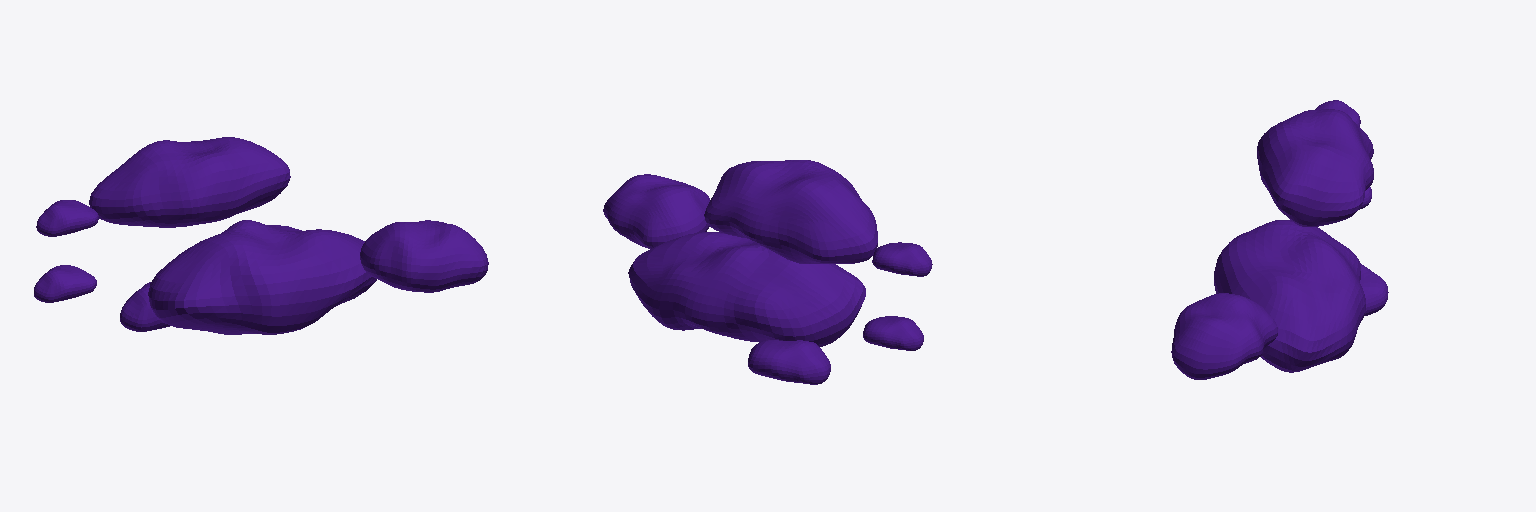
File: nerds.obj
3 renders of one model, left to right at view 1: azimuth 30°, elevation 25°; view 2: azimuth 150°, elevation 25°; view 3: azimuth 270°, elevation 25°, orthographic.
Parts seen in each view (by area): view 1: cloud; view 2: cloud; view 3: cloud.
Boxes of the visible parts, box(x1,y1,x2,y2) form: cloud: box(34, 137, 488, 334); cloud: box(603, 160, 932, 384); cloud: box(1171, 100, 1388, 379).
Bounding box in the file's own units: 16939 × 9377 × 8376.